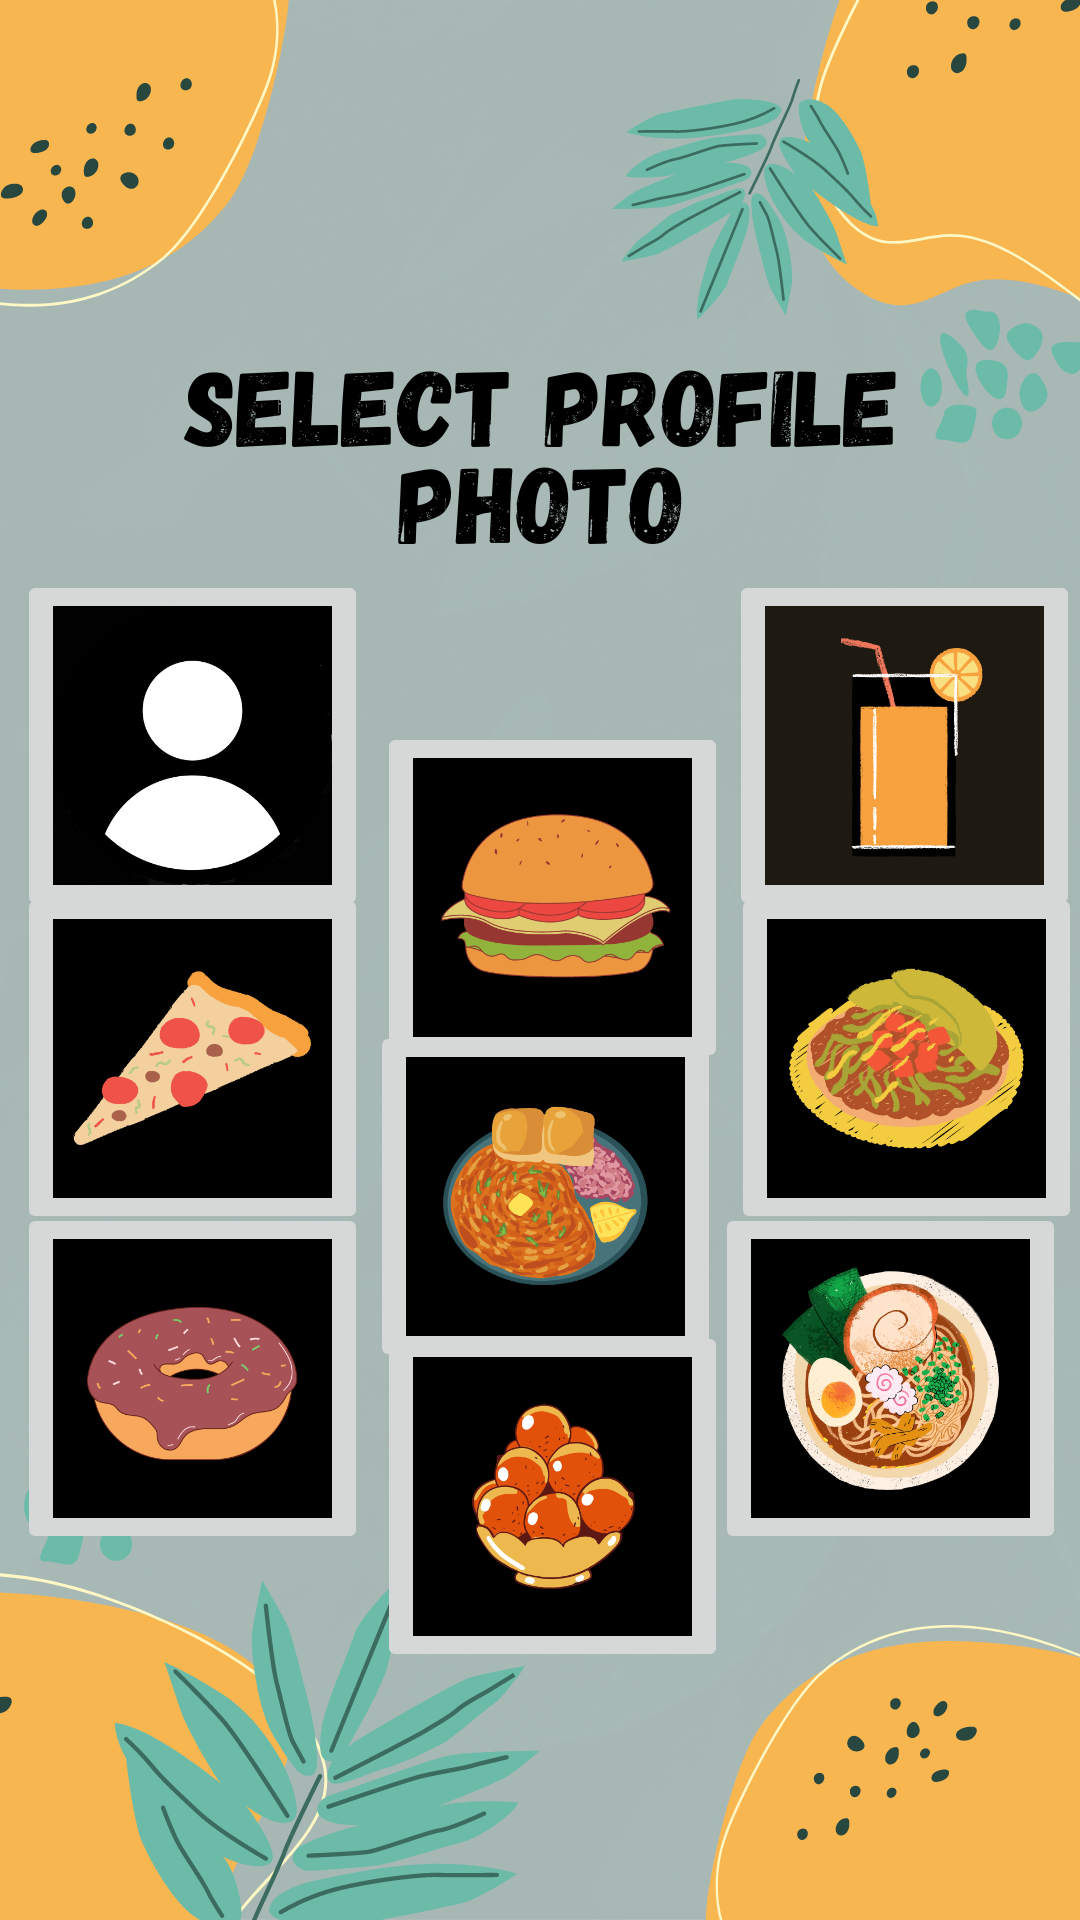

Where to tap for icons on this 1080w x 1920h app screen, as [x,y]:
burger: [549,906]
doughnut: [190,1378]
gulab: [552,1496]
juice: [905,754]
pavbhaji: [545,1196]
pizza: [192,1058]
ramen: [890,1378]
